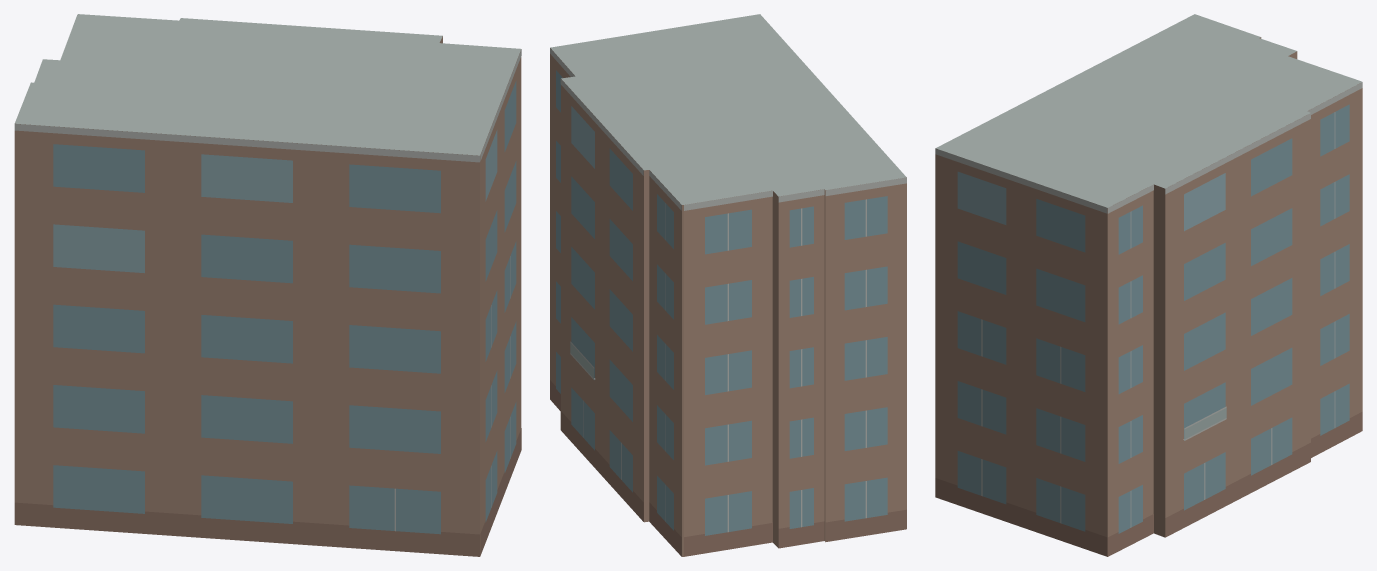
File: survey-upis-32983113.glb
3 renders of one model, left to right at view 1: azimuth 30°, elevation 25°; view 2: azimuth 150°, elevation 25°; view 3: azimuth 270°, elevation 25°, orthographic. The views are drawn at different scales.
Visible parts, largest first — view 1: survey-upis-32983113.tmp; view 2: survey-upis-32983113.tmp; view 3: survey-upis-32983113.tmp.
Part boxes in pixels (left/top/right/bottom): survey-upis-32983113.tmp: left=14, top=14, right=521, bottom=556; survey-upis-32983113.tmp: left=550, top=14, right=906, bottom=556; survey-upis-32983113.tmp: left=935, top=14, right=1362, bottom=556.
Bounding box in the file's own units: 17.05 × 14.3 × 15.87.
